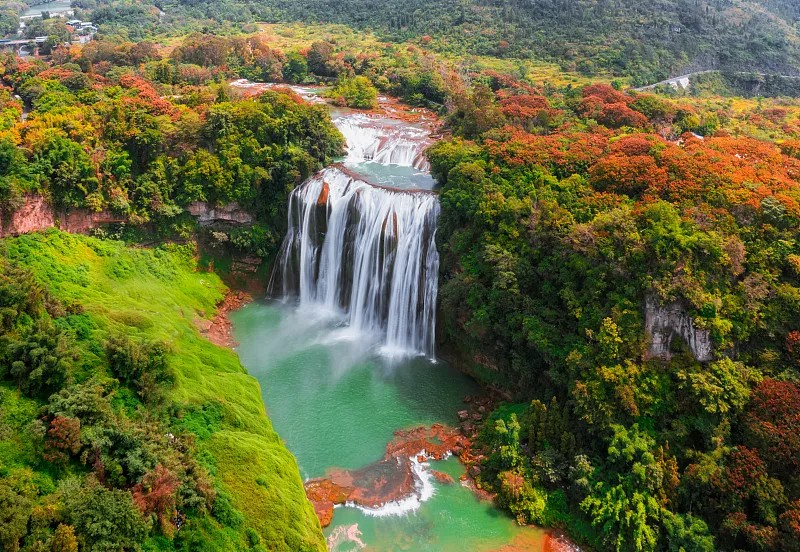Huangguoshu: (282, 134, 439, 363)
